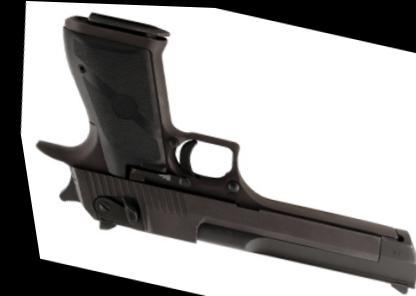pistol: (0, 0, 415, 293)
